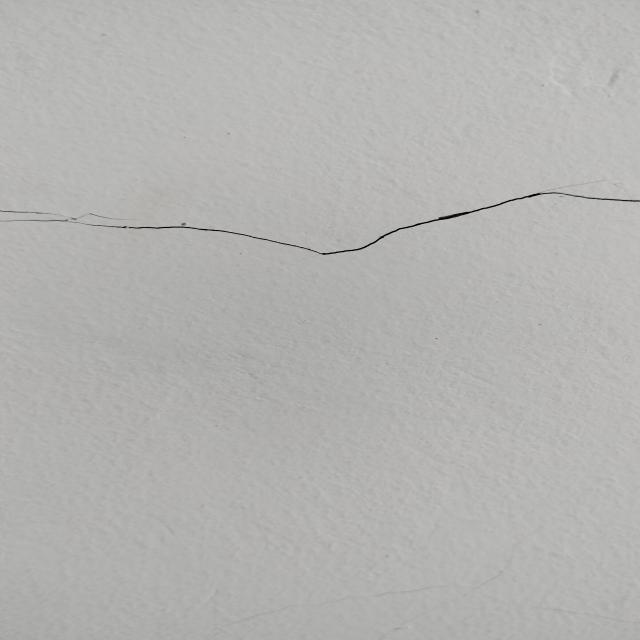Crack: (3, 174, 640, 261)
